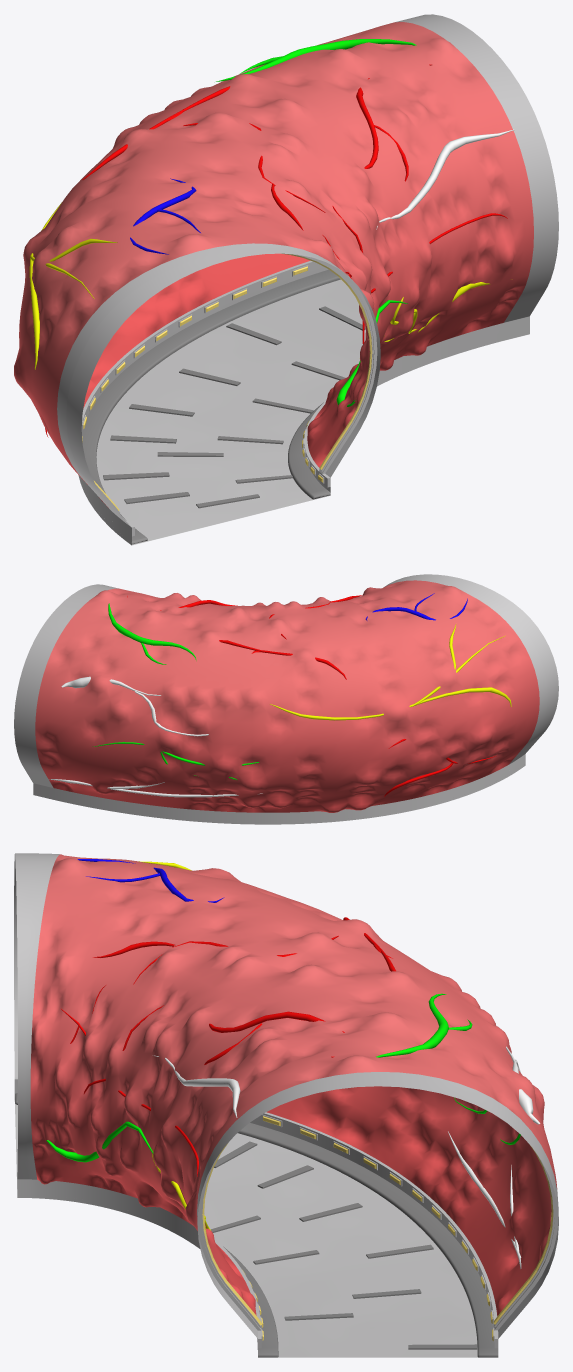
File: Terowongan_3_Kiri.fbx
The picture shows the model from 3 angles, top to bottom: view 1: azimuth 30°, elevation 25°; view 2: azimuth 150°, elevation 25°; view 3: azimuth 270°, elevation 25°; orthographic projection. The views are drawn at different scales.
Parts seen in each view (by area): view 1: Terowongan 3_Kiri; view 2: Terowongan 3_Kiri; view 3: Terowongan 3_Kiri.
Part boxes in pixels (bbox=[...]): Terowongan 3_Kiri: bbox=[14, 14, 558, 545]; Terowongan 3_Kiri: bbox=[14, 574, 558, 824]; Terowongan 3_Kiri: bbox=[14, 853, 558, 1357].
Bounding box in the file's own units: 989 × 450 × 794.
Materials: 4 (4 with a texture image).
